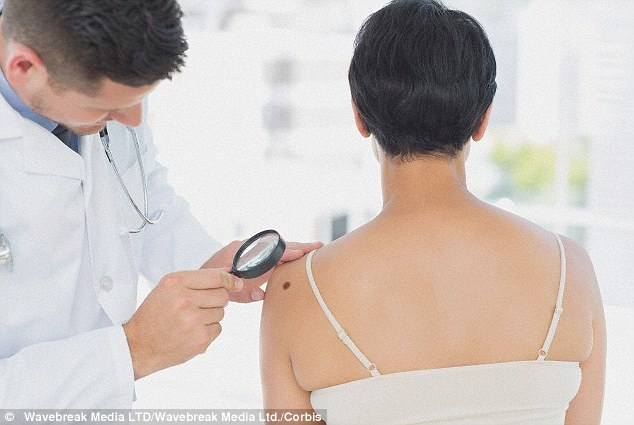mole: (275, 276, 294, 293)
